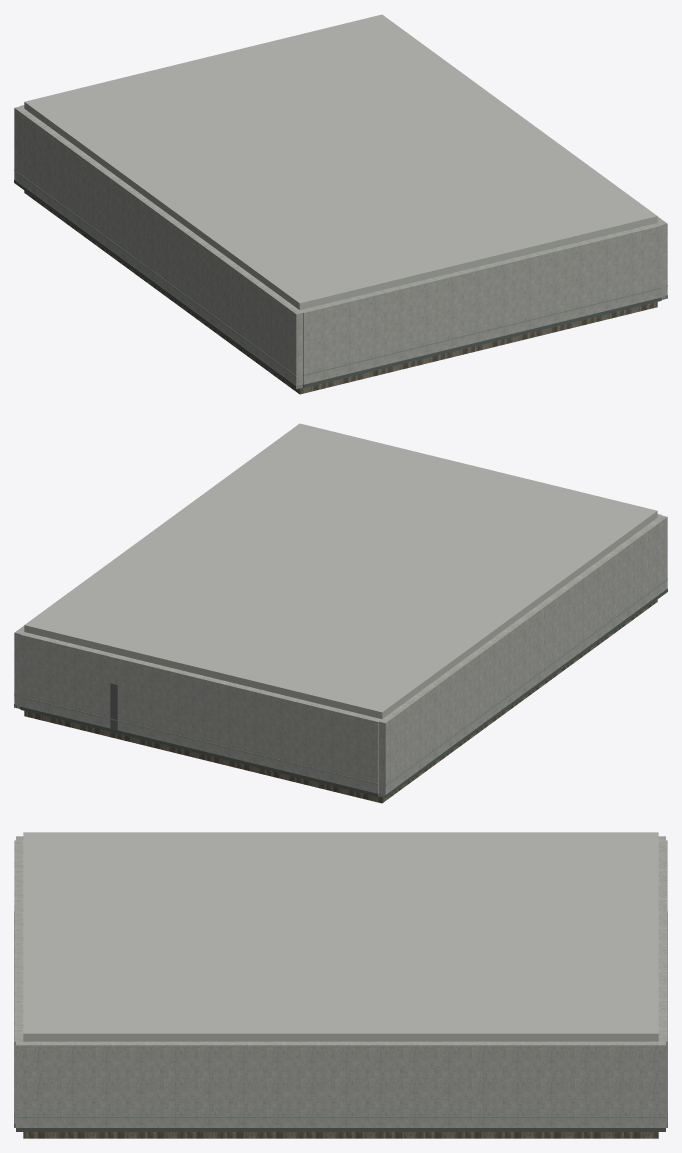
Rendered from school_3f_classrooms.glb.
The picture shows the model from 3 angles, top to bottom: view 1: azimuth 30°, elevation 25°; view 2: azimuth 150°, elevation 25°; view 3: azimuth 270°, elevation 25°; orthographic projection. The views are drawn at different scales.
Visible parts, largest first — view 1: Stage Ceiling / Ceiling, Wall z 16.22 -12 / Plaster, Wall x -12.22 -16.38 / Plaster, Stage Floor / Terrazzo, Wall z 16.22 -12 / Baseboard, Wall x -12.22 -16.38 / Baseboard, Wall z 16.22 -12 / Enamel, Wall x 12.22 -16.38 / Plaster; view 2: Stage Ceiling / Ceiling, Wall z -16.22 -12 / Plaster, Wall x -12.22 -16.38 / Plaster, Stage Floor / Terrazzo, Wall z -16.22 -12 / Baseboard, Wall x -12.22 -16.38 / Baseboard, Wall z -16.22 -12 / Enamel, Wall x 12.22 -16.38 / Plaster; view 3: Stage Ceiling / Ceiling, Wall x 12.22 -16.38 / Plaster, Stage Floor / Terrazzo, Wall x 12.22 -16.38 / Baseboard, Wall z -16.22 -12 / Plaster, Wall z 16.22 -12 / Plaster, Wall x 12.22 -16.38 / Enamel.
Boxes of the visible parts, left/top/right/bottom form: Stage Ceiling / Ceiling: left=24, top=14, right=657, bottom=309; Wall z 16.22 -12 / Plaster: left=300, top=223, right=661, bottom=387; Wall x -12.22 -16.38 / Plaster: left=14, top=106, right=302, bottom=388; Stage Floor / Terrazzo: left=24, top=190, right=657, bottom=394; Wall z 16.22 -12 / Baseboard: left=303, top=297, right=661, bottom=387; Wall x -12.22 -16.38 / Baseboard: left=14, top=179, right=302, bottom=388; Wall z 16.22 -12 / Enamel: left=303, top=287, right=661, bottom=375; Wall x 12.22 -16.38 / Plaster: left=657, top=217, right=667, bottom=299; Stage Ceiling / Ceiling: left=24, top=423, right=657, bottom=718; Wall z -16.22 -12 / Plaster: left=20, top=632, right=381, bottom=794; Wall x -12.22 -16.38 / Plaster: left=379, top=515, right=667, bottom=797; Stage Floor / Terrazzo: left=24, top=599, right=657, bottom=803; Wall z -16.22 -12 / Baseboard: left=20, top=706, right=378, bottom=796; Wall x -12.22 -16.38 / Baseboard: left=379, top=588, right=667, bottom=797; Wall z -16.22 -12 / Enamel: left=20, top=696, right=378, bottom=784; Wall x 12.22 -16.38 / Plaster: left=14, top=626, right=24, bottom=708; Stage Ceiling / Ceiling: left=23, top=832, right=658, bottom=1041; Wall x 12.22 -16.38 / Plaster: left=16, top=1041, right=665, bottom=1127; Stage Floor / Terrazzo: left=23, top=1132, right=658, bottom=1138; Wall x 12.22 -16.38 / Baseboard: left=16, top=1128, right=665, bottom=1131; Wall z -16.22 -12 / Plaster: left=658, top=840, right=667, bottom=1127; Wall z 16.22 -12 / Plaster: left=14, top=840, right=23, bottom=1127; Wall x 12.22 -16.38 / Enamel: left=16, top=1116, right=665, bottom=1117.
Size of the model in its own units: 24.94 by 5.84 by 32.94.
25 materials, 6 textured.
